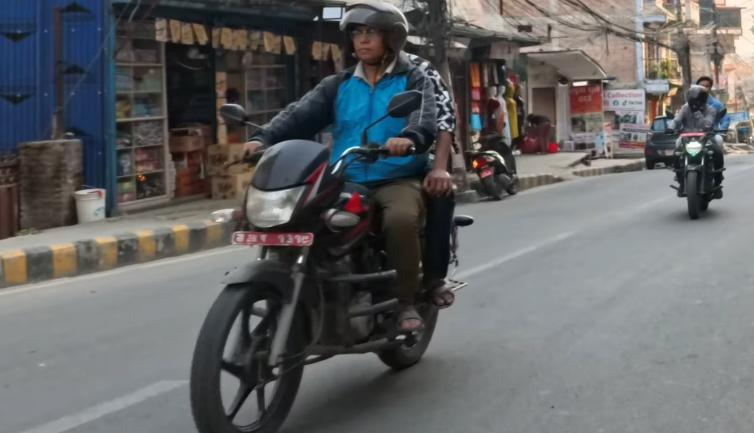bike: (187, 86, 478, 433), (657, 106, 734, 224)
